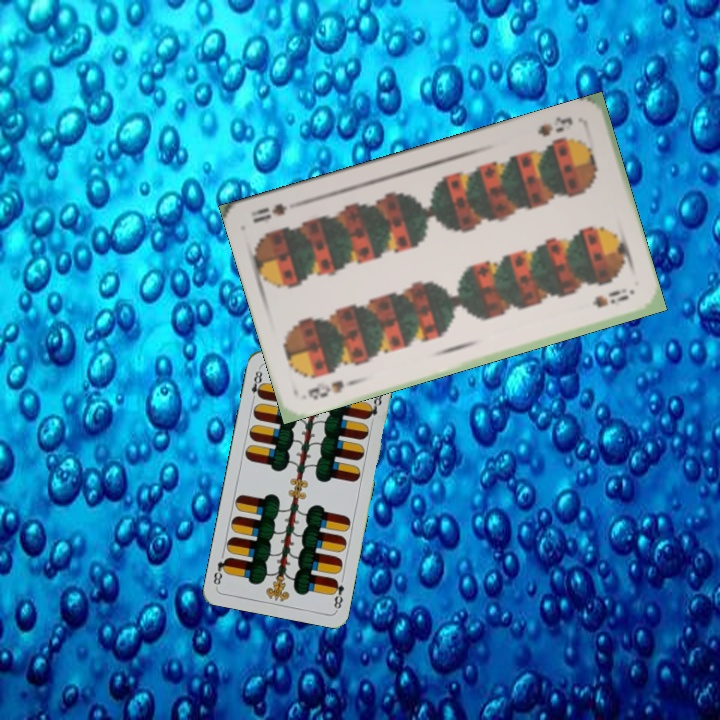E8: (247, 364, 266, 404), (328, 575, 347, 612)
S8: (304, 376, 359, 402), (534, 112, 576, 139)
